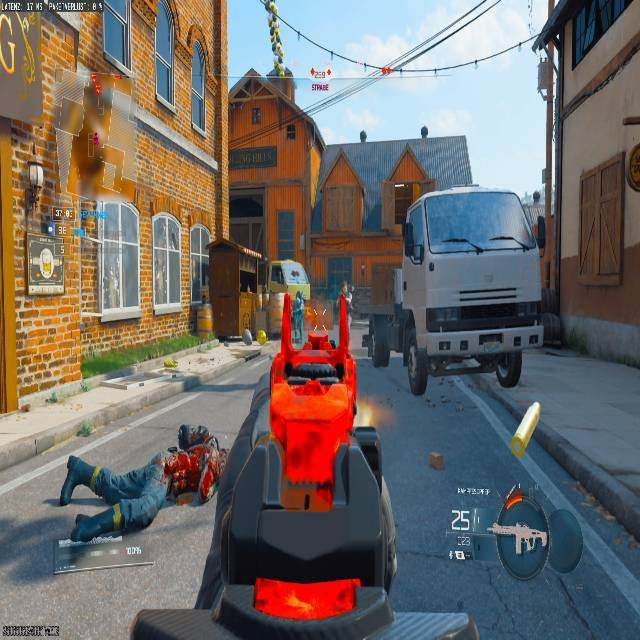player: (60, 421, 227, 546)
